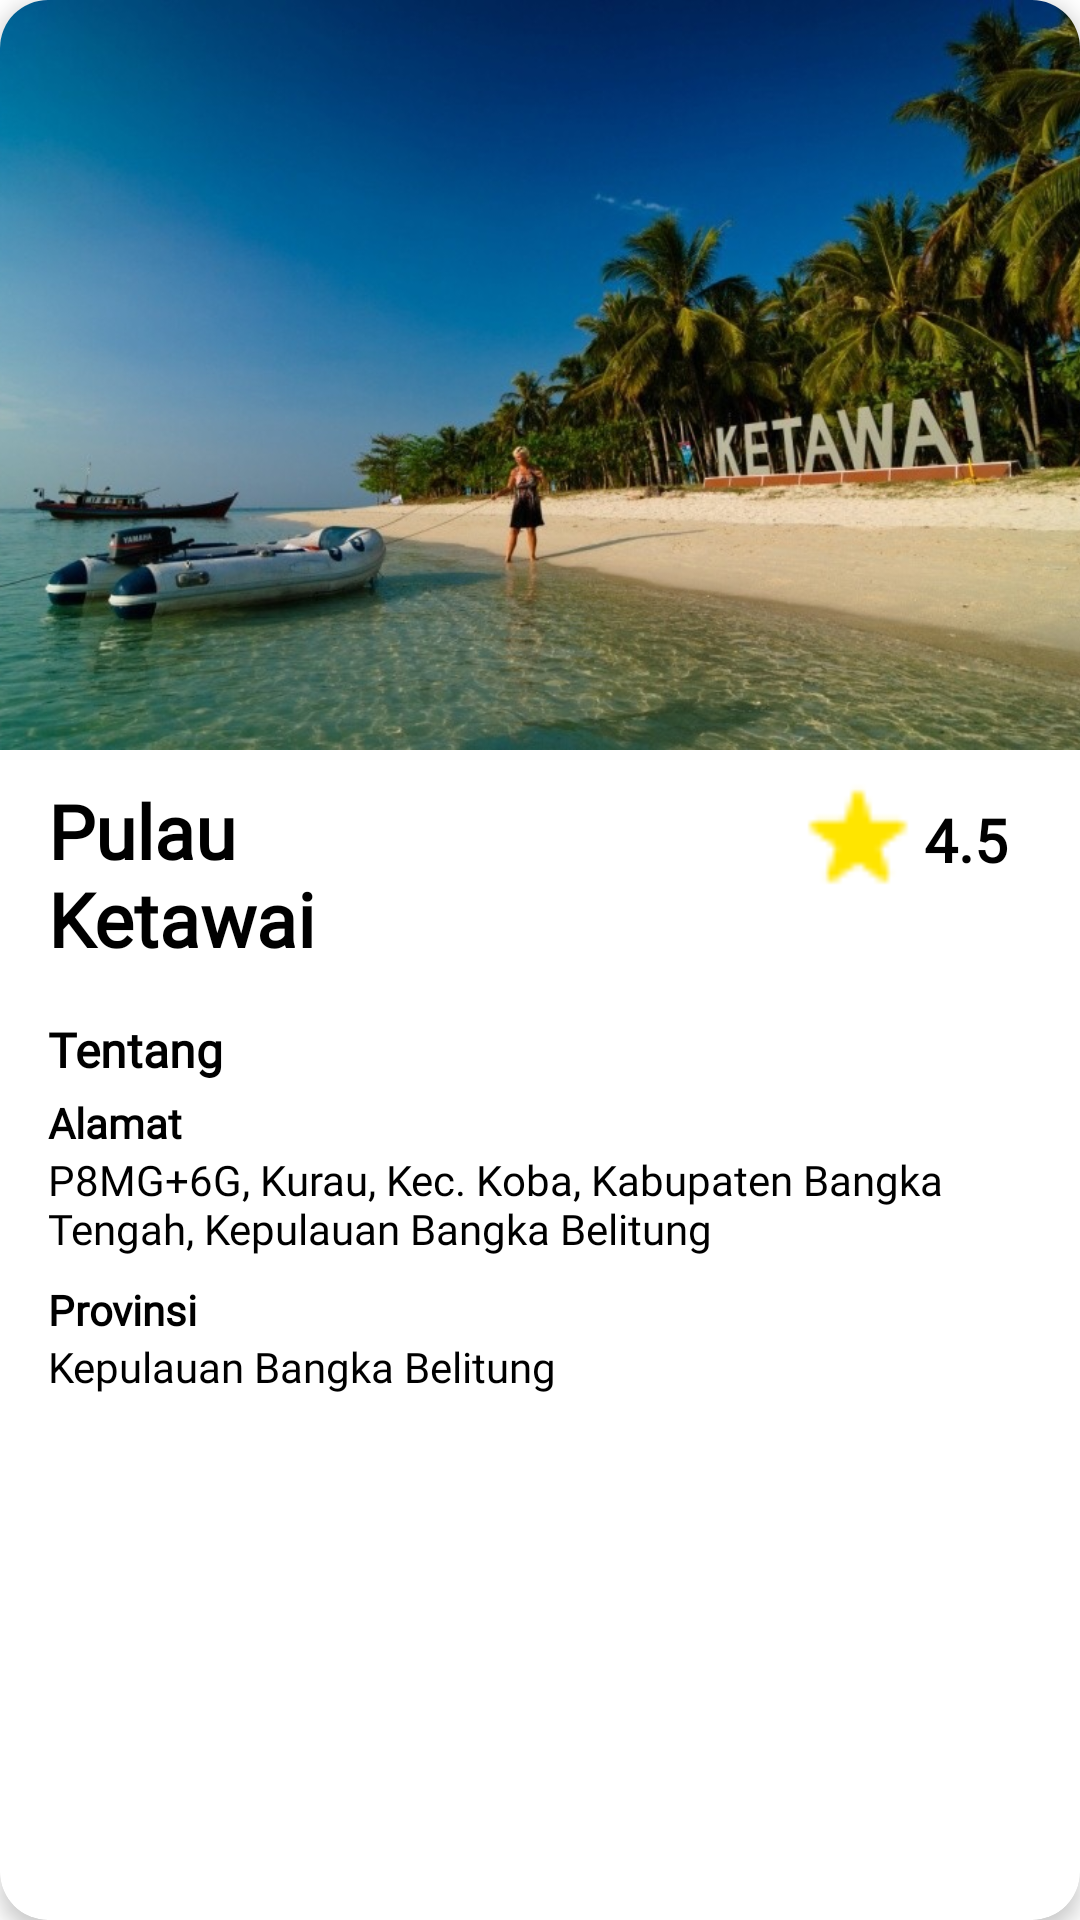

Screen size 1080 x 1920. Icon name, then its center in pixels as point (x, y):
Rating: point (858, 836)
